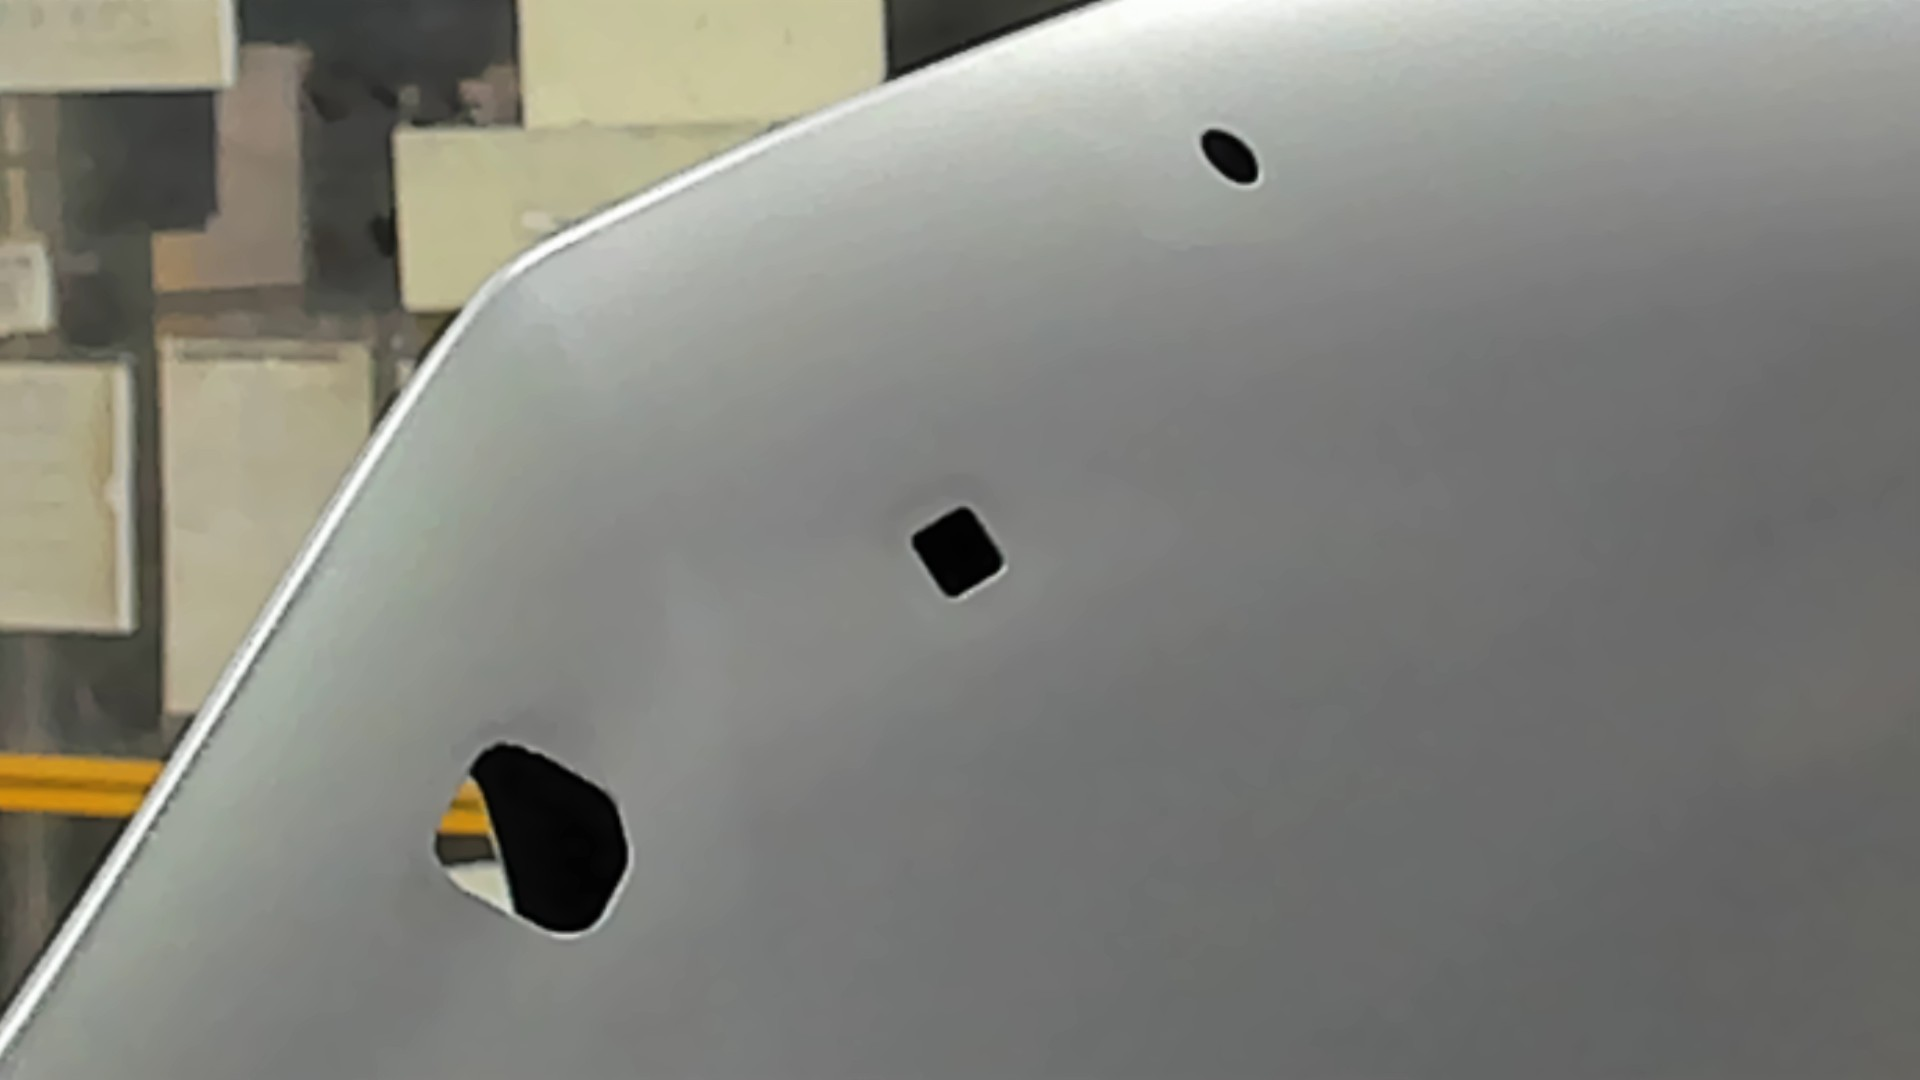chico: (1192, 124, 1266, 195)
grande: (425, 736, 641, 945)
mediano: (905, 498, 1015, 611)
